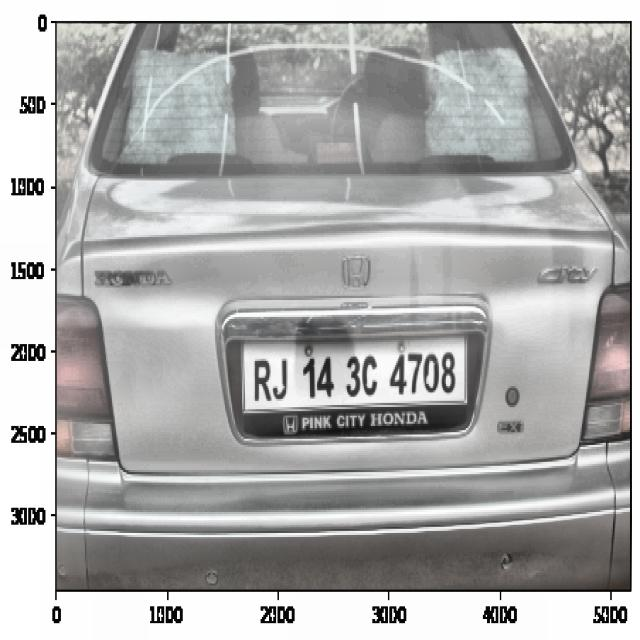license_plate: (242, 343, 469, 409)
